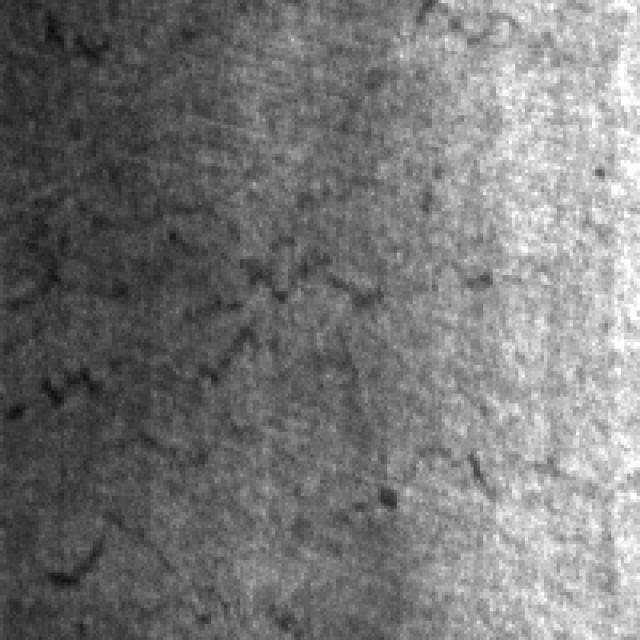crazing: (16, 150, 394, 452), (38, 432, 528, 618)
